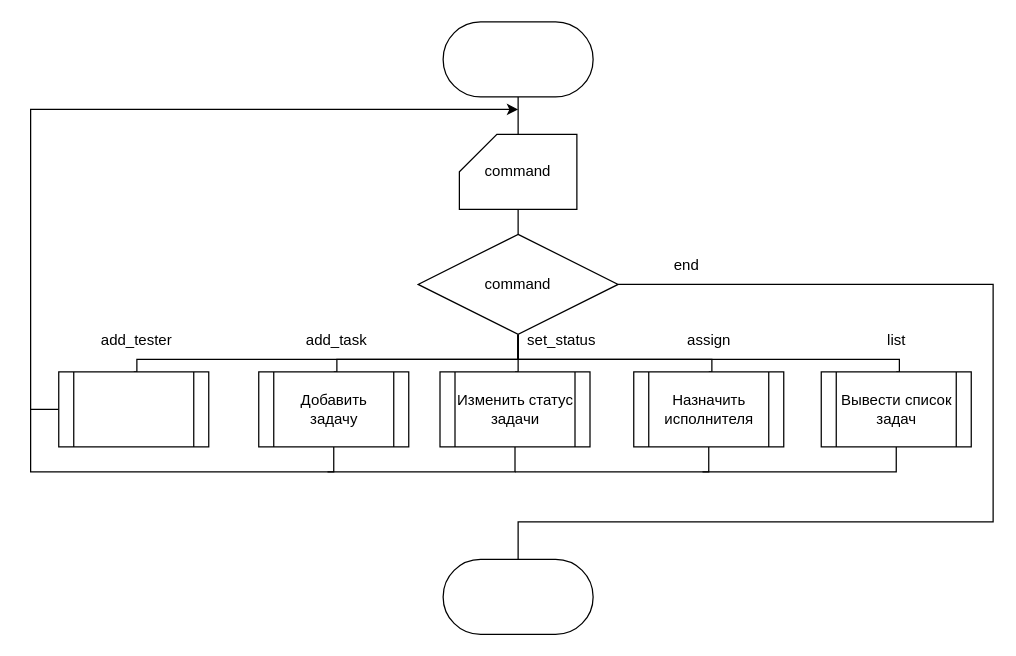
Some shapes in this 1016 by 656 pixel diagram are drawn without their labels. Here are the shapes that lost their labels. From the top down, the box of each, then its label:
(442, 21, 593, 97): Начало
(58, 371, 209, 447): Добавить тестировщика
(442, 558, 593, 634): Конец
